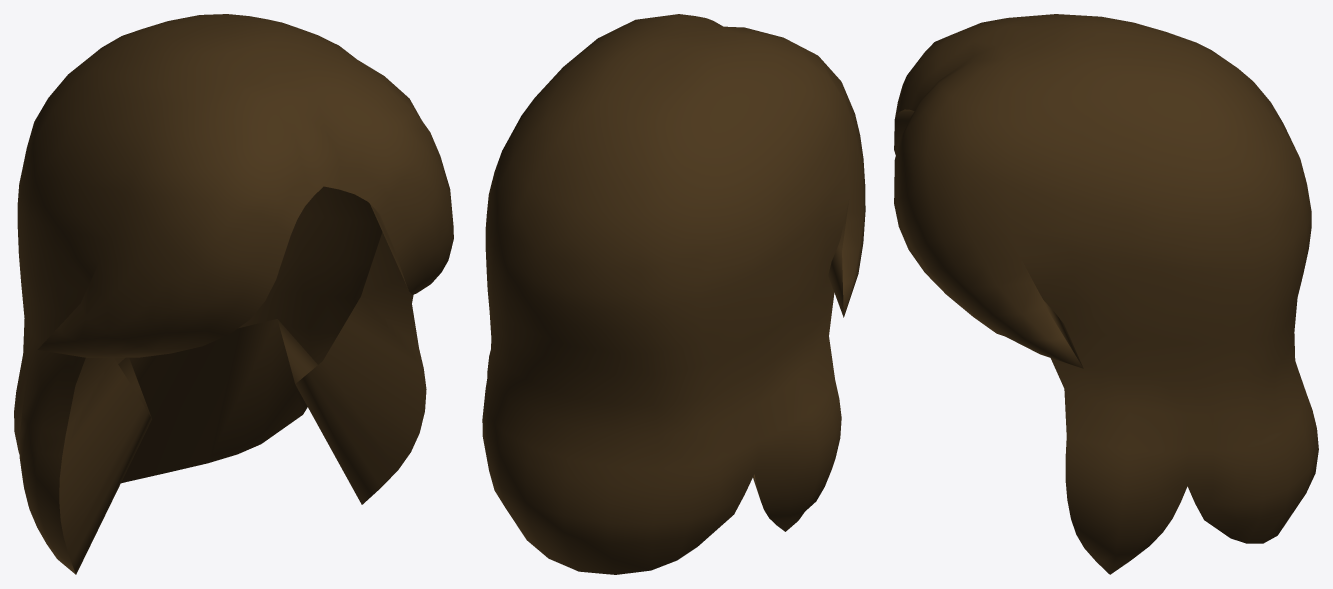
The model's file is hair_hair_099.gltf.
3 views of the same model, side by side, from view 1: azimuth 30°, elevation 25°; view 2: azimuth 150°, elevation 25°; view 3: azimuth 270°, elevation 25° (orthographic). The views are drawn at different scales.
Parts seen in each view (by area): view 1: hair.099; view 2: hair.099; view 3: hair.099.
Boxes of the visible parts, x1=… form: hair.099: x1=14, y1=14, x2=453, y2=574; hair.099: x1=482, y1=14, x2=865, y2=574; hair.099: x1=894, y1=14, x2=1318, y2=574.
Size of the model in its own units: 0.7934 by 1.01 by 0.805.
